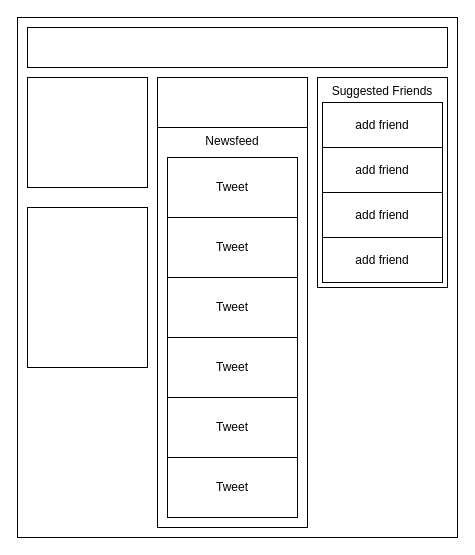
The diagram is 475 pixels wide and 555 high, and some of its shapes have lost their labels. Each missing label, with the centre of its shape:
"Navbar / Header" goes at pixel 237 47.
"Post tweet" goes at pixel 232 102.
"trending stories" goes at pixel 87 287.
"User Profile" goes at pixel 87 132.
